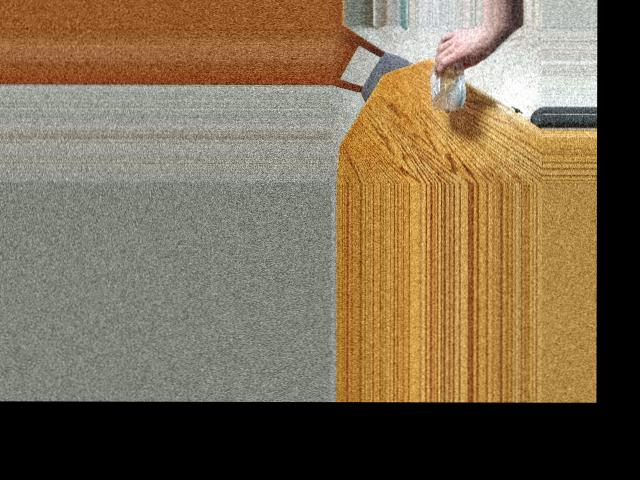cheese: (420, 50, 479, 116)
